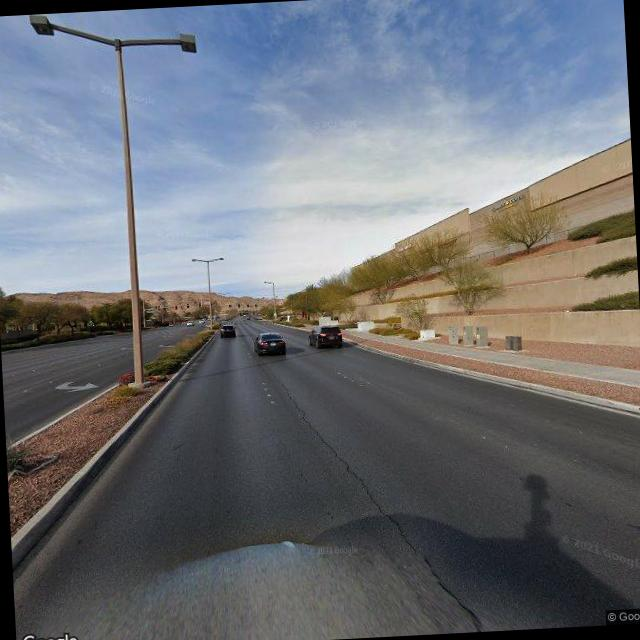pothole: (278, 372, 494, 639)
